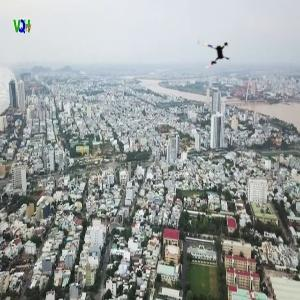drone: (195, 32, 236, 73)
